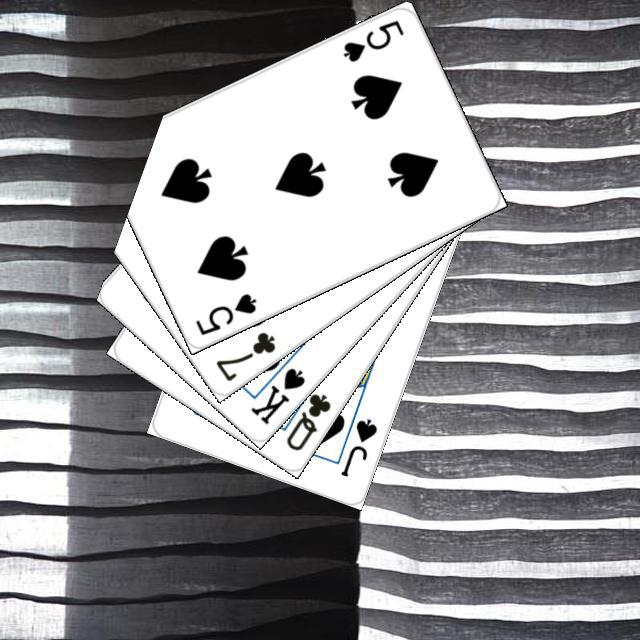5s: (338, 14, 406, 64), (190, 288, 258, 337)
7c: (211, 326, 278, 384)
Js: (336, 413, 379, 479)
Ks: (245, 362, 307, 426)
Qc: (275, 376, 333, 453)
